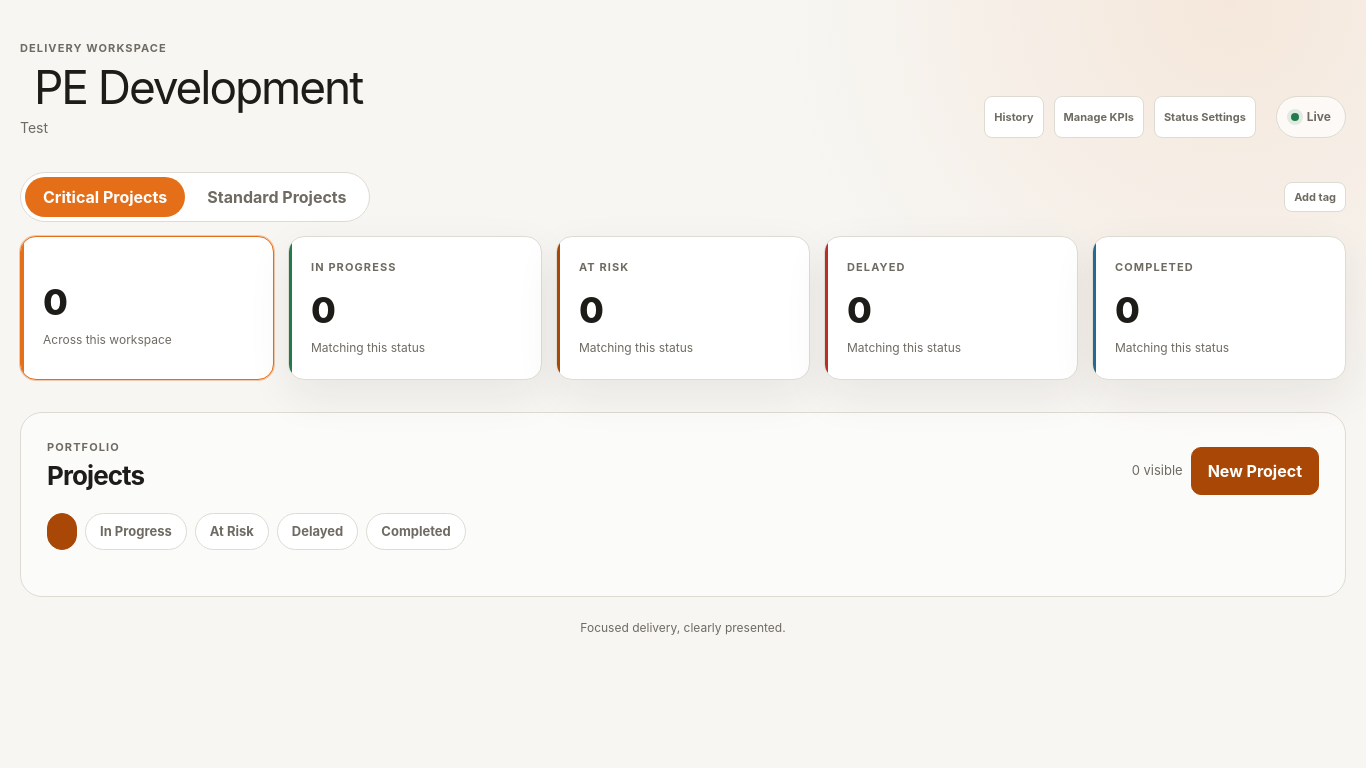
Test: admin dashboard controls › lets admins set the PE Development tag next to the project type toggle
Click the button "Add tag": {"x": 1315, "y": 197} [1284,182,1346,212]
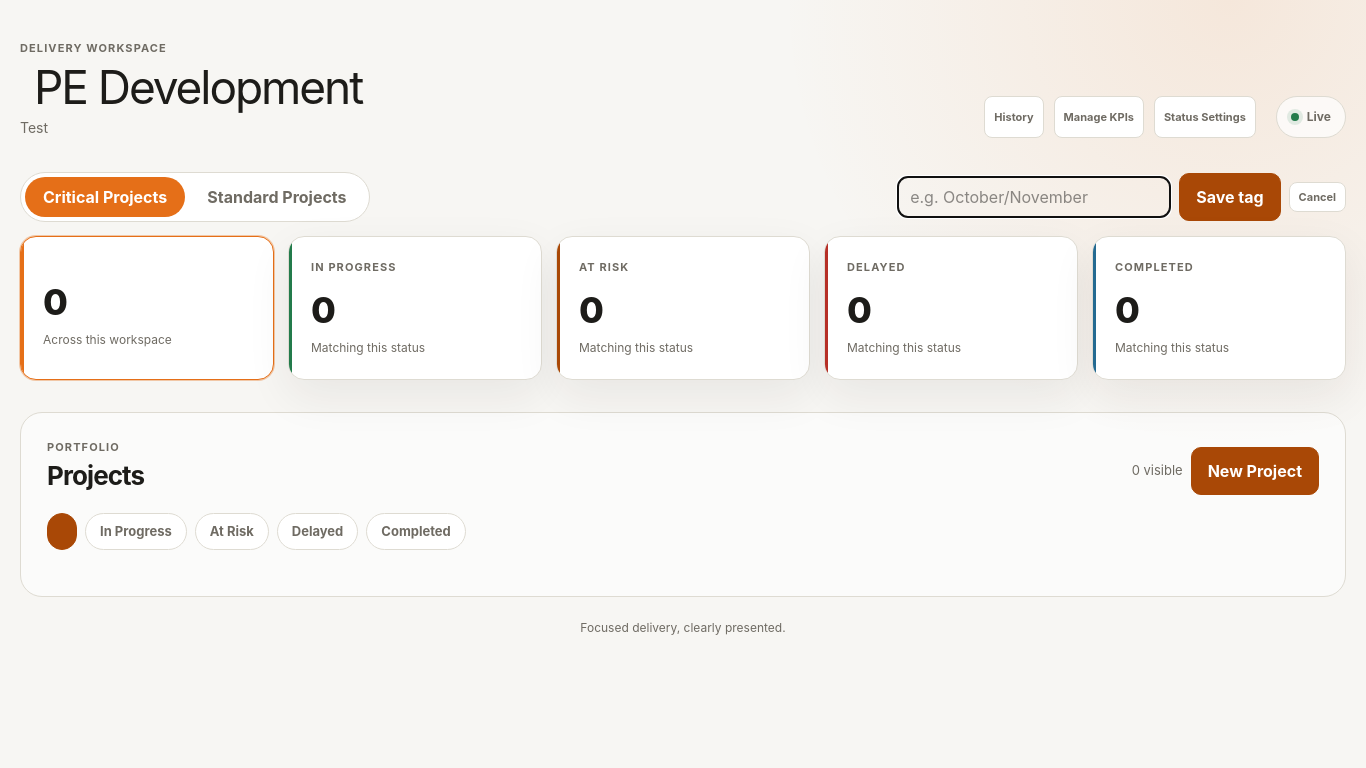
In the field named "Tag": {"x": 1034, "y": 197} [897,176,1171,218], type "October/November"
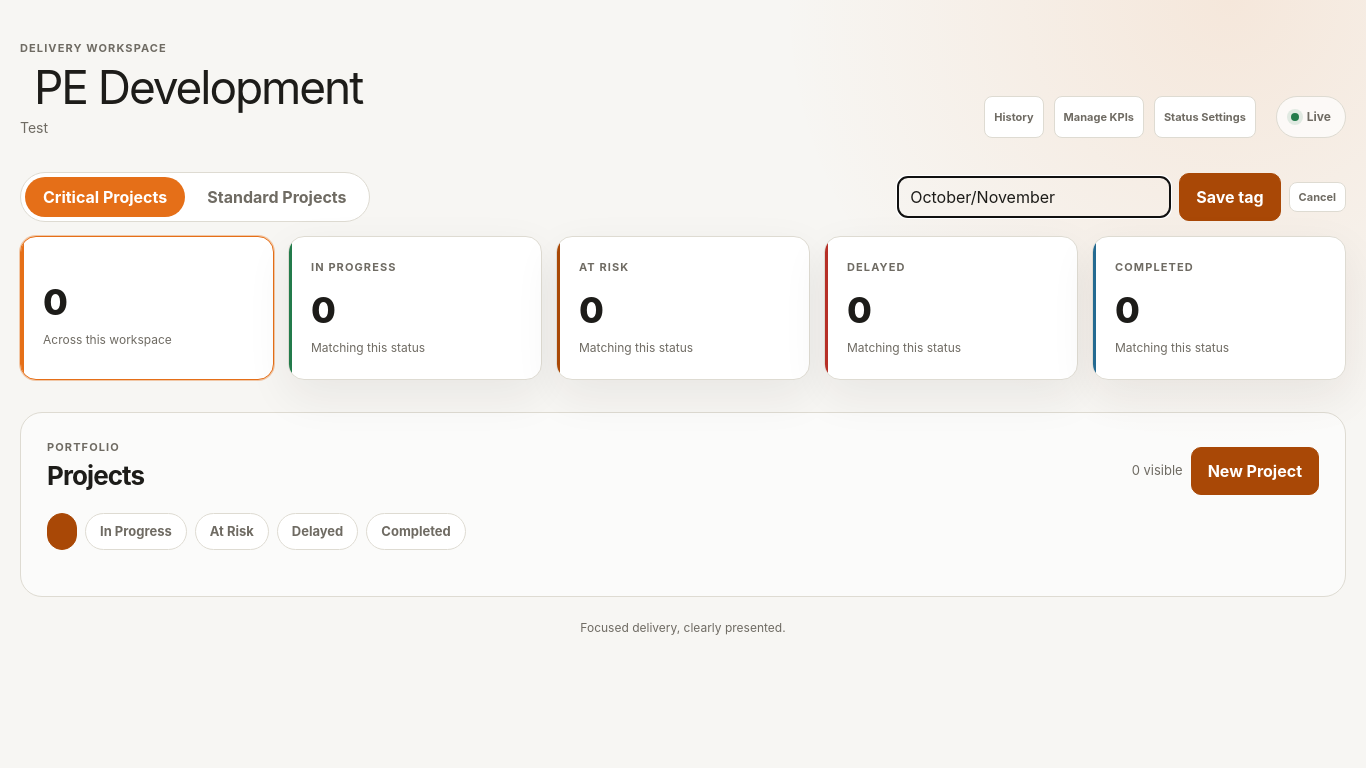
Click the button "Save tag": {"x": 1230, "y": 197} [1179,173,1281,221]
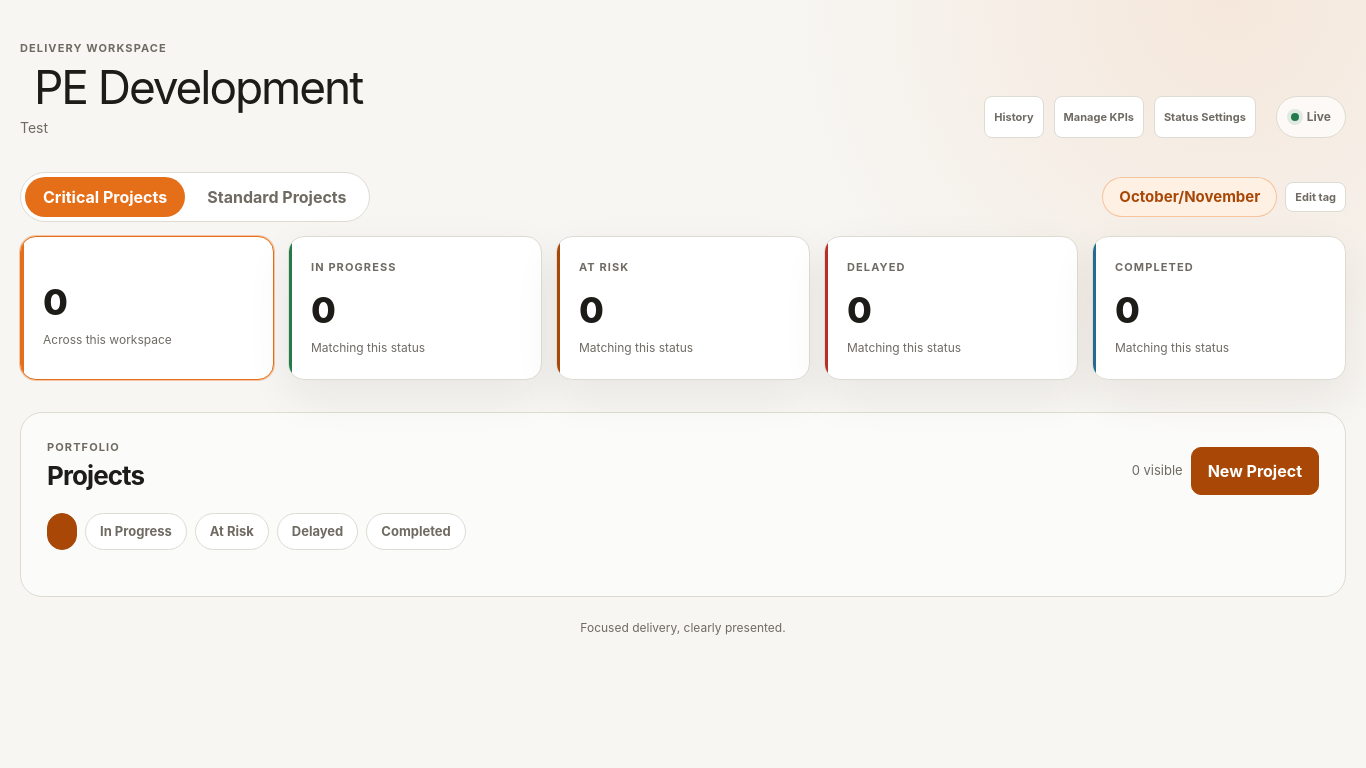
Now the text "October/November" is shown, box [1102,176,1277,217]
